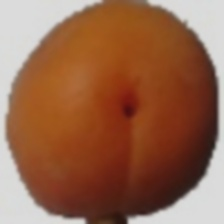apricot: (13, 51, 176, 204)
